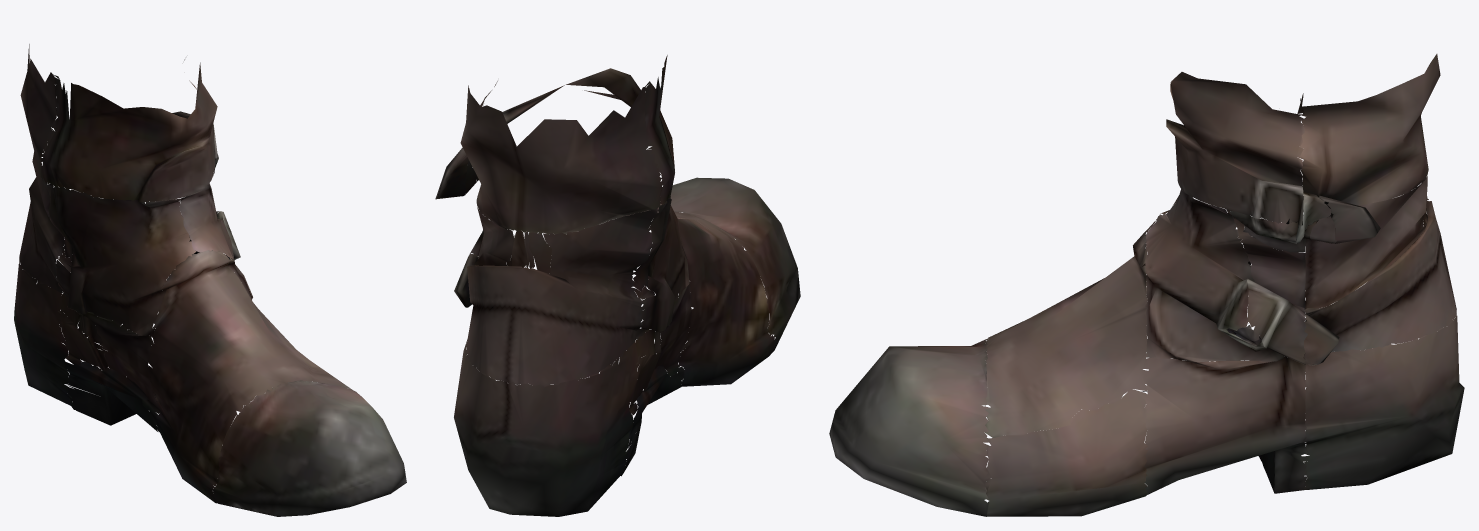
Rendered from a_ranger_boots_R_foot.glb.
The picture shows the model from 3 angles, left to right: view 1: azimuth 30°, elevation 25°; view 2: azimuth 150°, elevation 25°; view 3: azimuth 270°, elevation 25°; orthographic projection. The views are drawn at different scales.
Visible parts, largest first — view 1: geometry_0.002; view 2: geometry_0.002; view 3: geometry_0.002.
Part boxes in pixels (x1,y1,x2,y2): geometry_0.002: (14,44,406,516); geometry_0.002: (435,55,800,516); geometry_0.002: (829,54,1464,516).
Size of the model in its own units: 0.115 by 0.1797 by 0.2545.
1 material, 1 textured.
